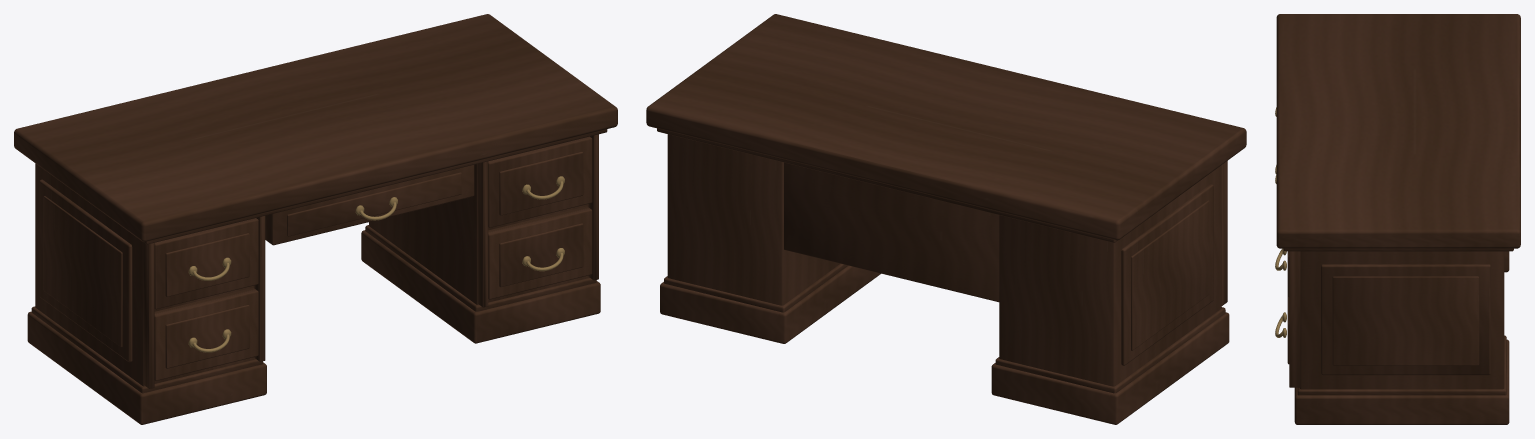
Rendered from central_victorian_desk.glb.
3 views of the same model, side by side, from view 1: azimuth 30°, elevation 25°; view 2: azimuth 150°, elevation 25°; view 3: azimuth 270°, elevation 25° (orthographic). The views are drawn at different scales.
Visible parts, largest first — view 1: Central_Victorian_Desk; view 2: Central_Victorian_Desk; view 3: Central_Victorian_Desk.
Boxes of the visible parts, x1,y1,x2,y2 form: Central_Victorian_Desk: (14, 14, 617, 424); Central_Victorian_Desk: (646, 14, 1246, 424); Central_Victorian_Desk: (1275, 14, 1520, 424).
Bounding box in the file's own units: 1.86 × 0.79 × 0.8853.
2 materials, 1 textured.
